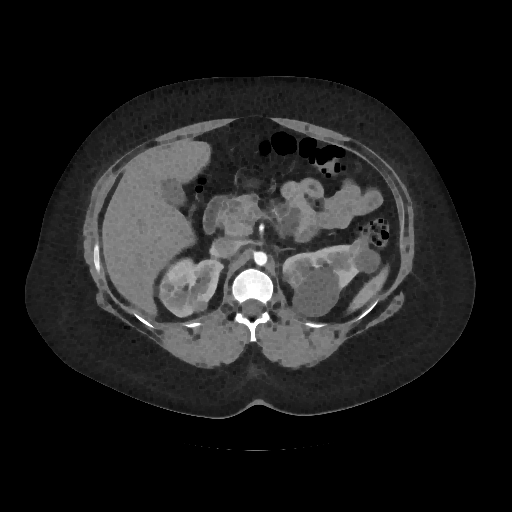Lesion: (348, 228, 373, 263)
